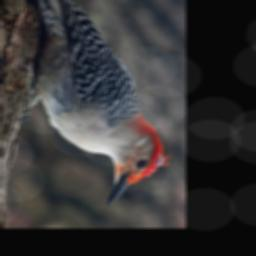Woodpecker: (16, 0, 170, 205)
